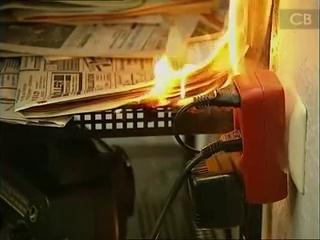Fire: (149, 0, 282, 101)
